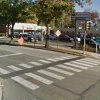crosswalk: (0, 55, 100, 93)
